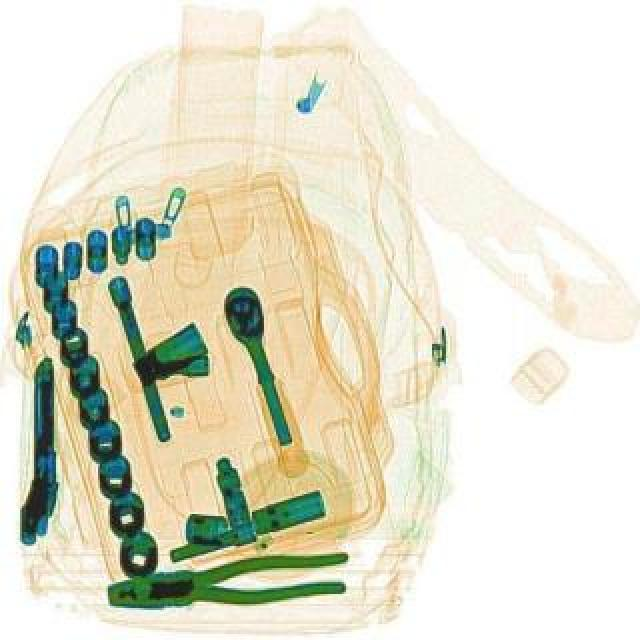gun: (8, 354, 64, 544)
wrench: (104, 544, 352, 618)
